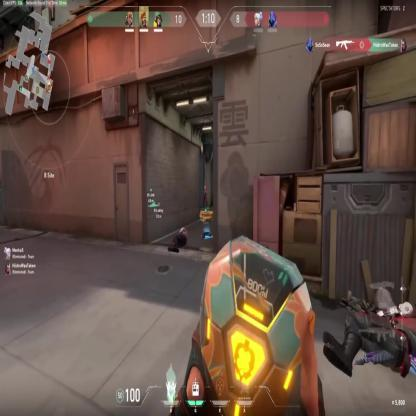enemy: (203, 184, 207, 212)
enemy_head: (204, 184, 206, 190)
